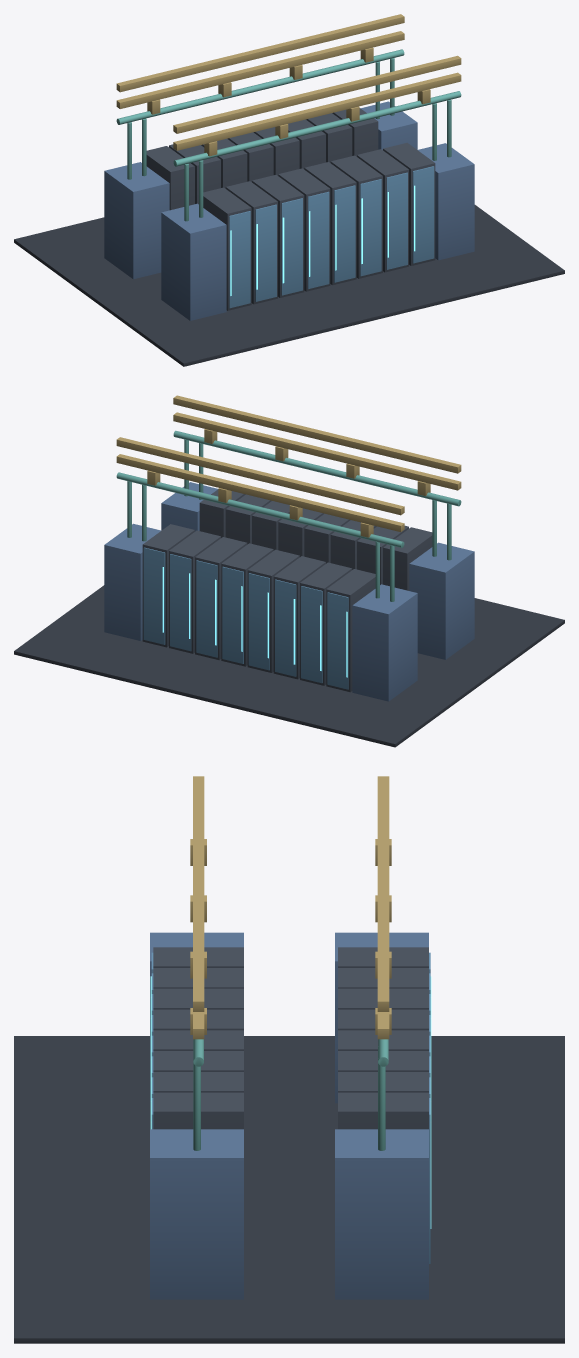
File: gb200-nvl36.glb
The picture shows the model from 3 angles, top to bottom: view 1: azimuth 30°, elevation 25°; view 2: azimuth 150°, elevation 25°; view 3: azimuth 270°, elevation 25°; orthographic projection. The views are drawn at different scales.
Parts seen in each view (by area): view 1: floor, cdu-A1, cdu-B1, cdu-A2, busway-A2, busway-A1, busway-B1, busway-B2, rack-A8-door, rack-A1-door, rack-A5-door, rack-A4-door (+23 smaller); view 2: floor, cdu-B1, cdu-A1, cdu-B2, busway-A2, busway-B1, busway-A1, busway-B2, rack-B8-door, rack-B5-door, rack-B1-door, rack-B2-door (+23 smaller); view 3: floor, cdu-A2, cdu-B2, rack-A8, rack-B8, busway-B2, busway-A2, cdu-B1, rack-A7, rack-B7, rack-B3, rack-A3 (+11 smaller).
Part boxes in pixels (x1,y1,x2,y2): floor: [14, 205, 564, 366]; cdu-A1: [161, 203, 226, 320]; cdu-B1: [104, 162, 169, 279]; cdu-A2: [418, 143, 474, 260]; busway-A2: [173, 55, 461, 133]; busway-A1: [173, 72, 461, 150]; busway-B1: [116, 31, 404, 108]; busway-B2: [116, 14, 404, 92]; rack-A8-door: [412, 166, 434, 263]; rack-A1-door: [229, 211, 250, 308]; rack-A5-door: [334, 185, 355, 282]; rack-A4-door: [308, 191, 329, 288]; floor: [14, 585, 564, 747]; cdu-B1: [352, 584, 417, 701]; cdu-A1: [409, 542, 474, 659]; cdu-B2: [104, 523, 160, 640]; busway-A2: [173, 395, 461, 473]; busway-B1: [116, 454, 404, 531]; busway-A1: [173, 412, 461, 490]; busway-B2: [116, 437, 404, 515]; rack-B8-door: [143, 547, 165, 644]; rack-B5-door: [222, 566, 243, 663]; rack-B1-door: [327, 592, 348, 689]; rack-B2-door: [301, 586, 322, 683]; floor: [14, 1036, 564, 1343]; cdu-A2: [150, 1129, 243, 1299]; cdu-B2: [335, 1129, 428, 1299]; rack-A8: [153, 1092, 243, 1129]; rack-B8: [338, 1092, 428, 1129]; busway-B2: [377, 776, 389, 1011]; busway-A2: [193, 776, 204, 1011]; cdu-B1: [335, 932, 428, 1103]; rack-A7: [153, 1072, 243, 1092]; rack-B7: [338, 1072, 428, 1092]; rack-B3: [338, 988, 428, 1009]; rack-A3: [153, 988, 243, 1009].
Bounding box in the file's own units: 9.45 × 4.43 × 7.29.
